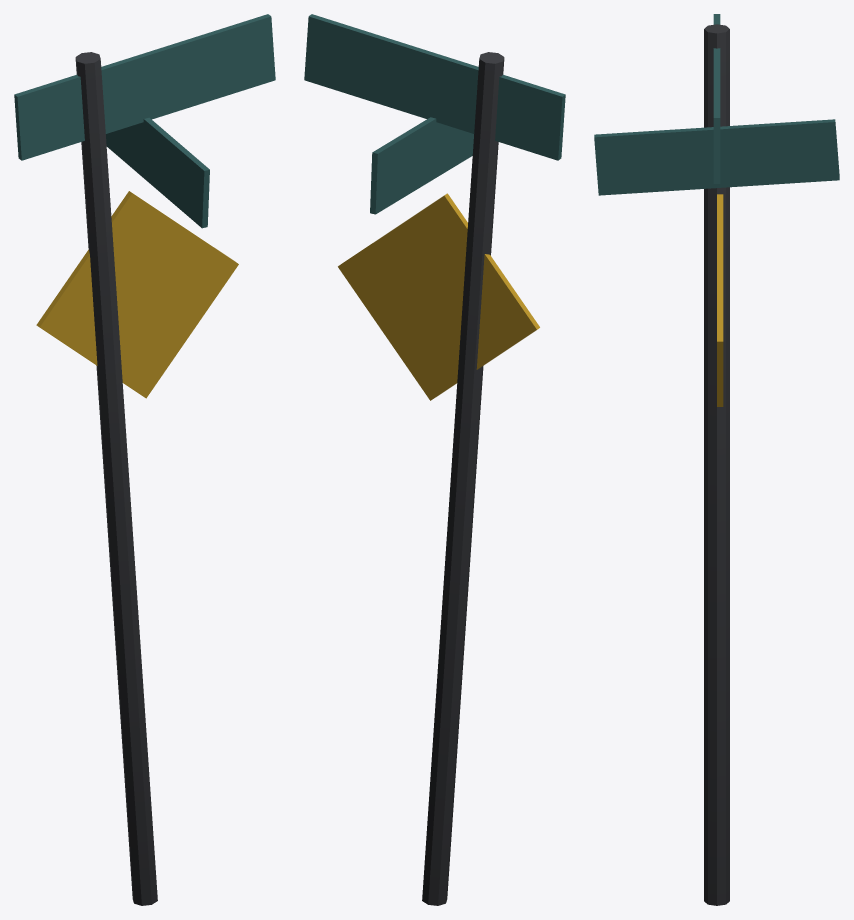
File: street_sign.glb
3 views of the same model, side by side, from view 1: azimuth 30°, elevation 25°; view 2: azimuth 150°, elevation 25°; view 3: azimuth 270°, elevation 25° (orthographic).
Parts seen in each view (by area): view 1: street_sign; view 2: street_sign; view 3: street_sign.
Part boxes in pixels (x1=…): street_sign: x1=14, y1=14, x2=275, y2=905; street_sign: x1=304, y1=14, x2=565, y2=905; street_sign: x1=594, y1=14, x2=839, y2=905.
Size of the model in its own units: 0.9132 by 2.9 by 0.7621.
